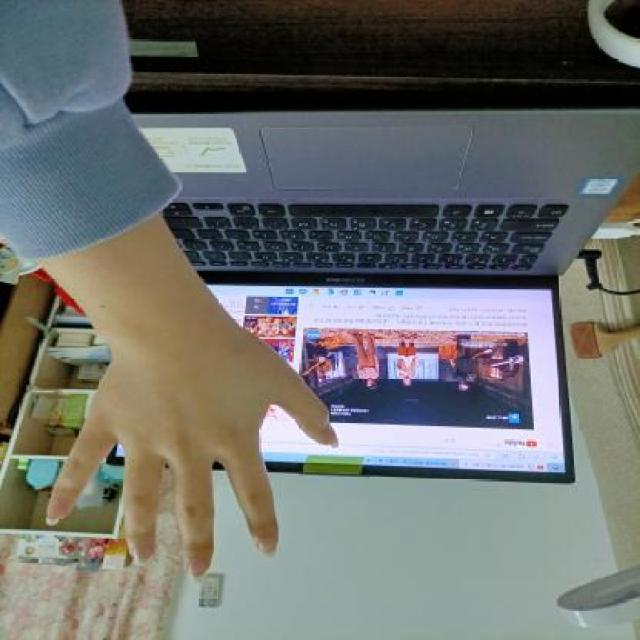bare_hand: (29, 296, 349, 596)
